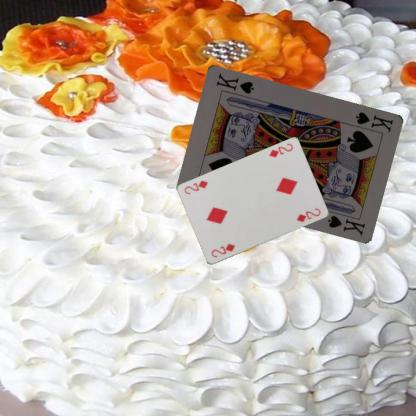2d: (266, 141, 294, 159), (209, 241, 236, 259)
Ks: (353, 109, 395, 134)
